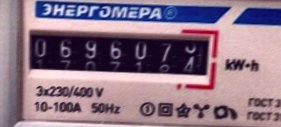0: (132, 38, 148, 61), (32, 37, 47, 58)
4: (181, 54, 195, 75)
6: (57, 37, 72, 58), (107, 39, 122, 60)
7: (157, 41, 173, 63)
9: (82, 38, 96, 59)
screen: (14, 19, 223, 87)
